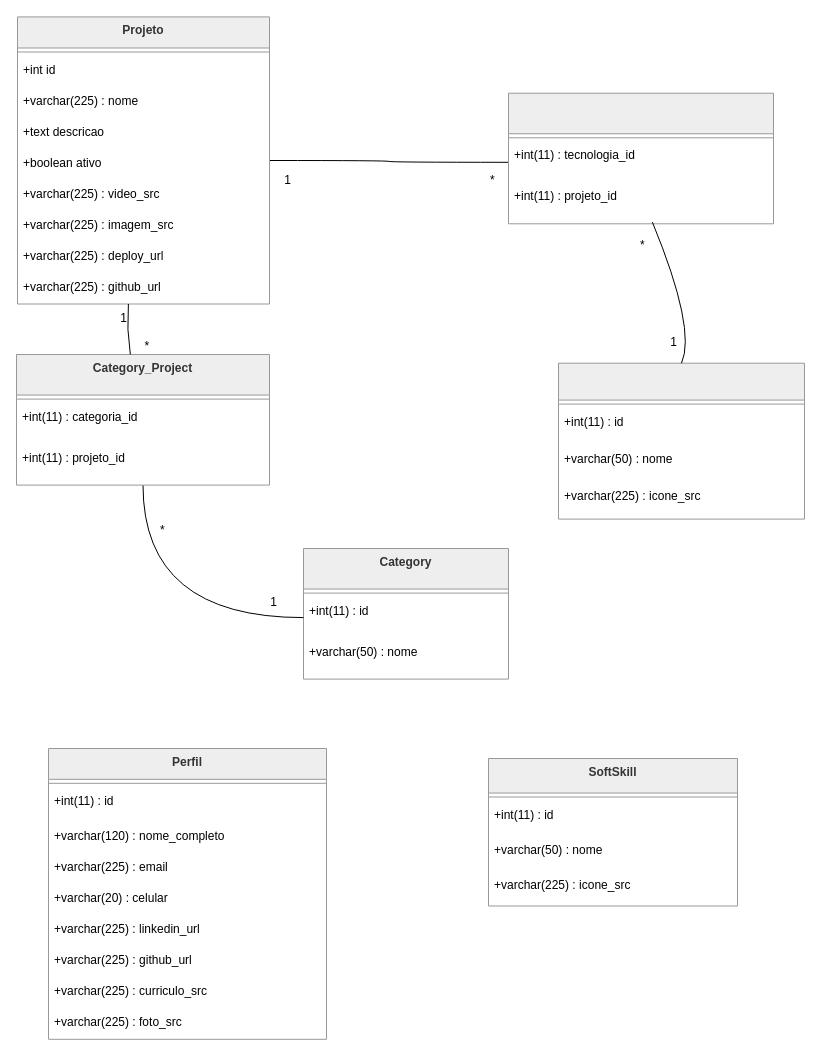
The diagram is 821 pixels wide and 1056 high, and some of its shapes have lost their labels. Each missing label, with the box of its shape:
Technology: (558, 362, 804, 519)
Technoogy_Project: (508, 92, 774, 224)
